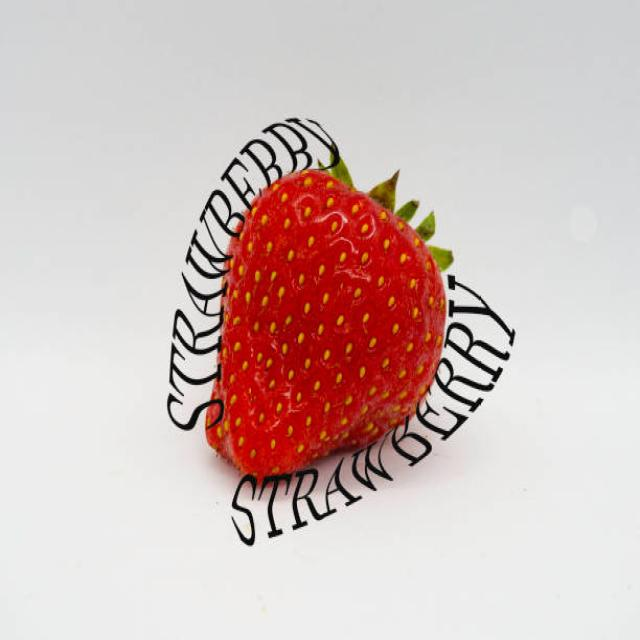Healthy Fruit: (221, 167, 447, 470)
